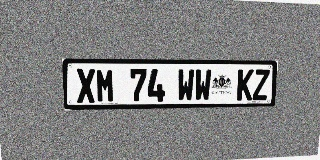4: (147, 69, 165, 102)
7: (129, 69, 147, 102)
K: (236, 69, 254, 100)
M: (96, 69, 115, 103)
W: (194, 69, 212, 101), (177, 69, 194, 101)
X: (76, 69, 96, 103)
Z: (252, 69, 270, 100)
